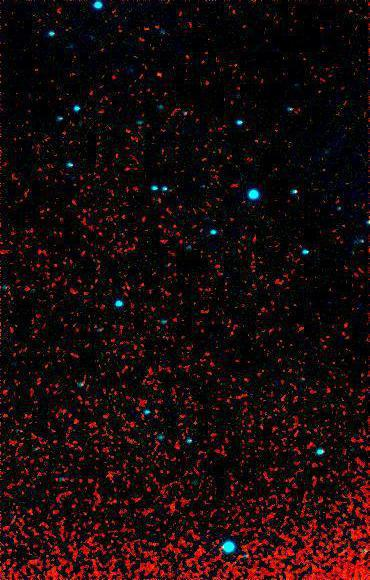star: (147, 62, 177, 92)
